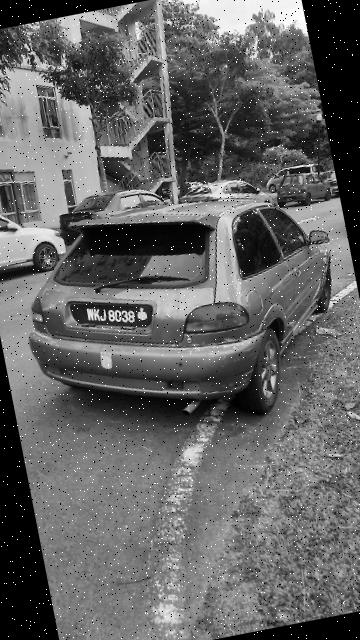License_Plate: (65, 285, 160, 351)
car: (1, 162, 360, 459)
